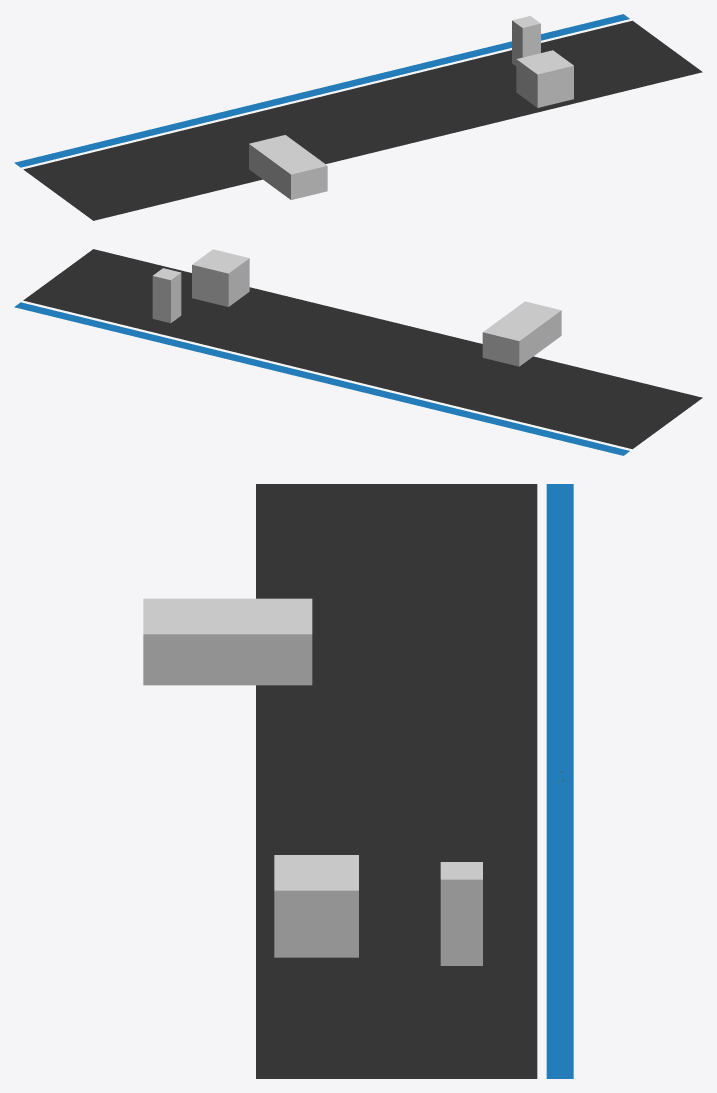
3 renders of one model, top to bottom at view 1: azimuth 30°, elevation 25°; view 2: azimuth 150°, elevation 25°; view 3: azimuth 270°, elevation 25°, orthographic. The views are drawn at different scales.
Parts seen in each view (by area): view 1: PlaneAsphalt, PlaneRiver, Building.006, Building.005, Building.004; view 2: PlaneAsphalt, PlaneRiver, Building.006, Building.005, Building.004; view 3: PlaneAsphalt, PlaneRiver, Building.006, Building.005, Building.004.
Boxes of the visible parts, left/top/right/bottom form: PlaneAsphalt: left=23, top=20, right=702, bottom=220; PlaneRiver: left=14, top=14, right=629, bottom=167; Building.006: left=249, top=135, right=327, bottom=199; Building.005: left=516, top=50, right=573, bottom=107; Building.004: left=512, top=16, right=540, bottom=65; PlaneAsphalt: left=23, top=249, right=702, bottom=449; PlaneRiver: left=14, top=302, right=629, bottom=455; Building.006: left=482, top=301, right=561, bottom=366; Building.005: left=192, top=249, right=249, bottom=306; Building.004: left=152, top=268, right=181, bottom=323; PlaneAsphalt: left=256, top=484, right=537, bottom=1078; PlaneRiver: left=546, top=484, right=573, bottom=1078; Building.006: left=143, top=598, right=312, bottom=685; Building.005: left=274, top=855, right=358, bottom=957; Building.004: left=440, top=862, right=482, bottom=965.
Bounding box in the file's own units: 160000 × 48922 × 10884.
